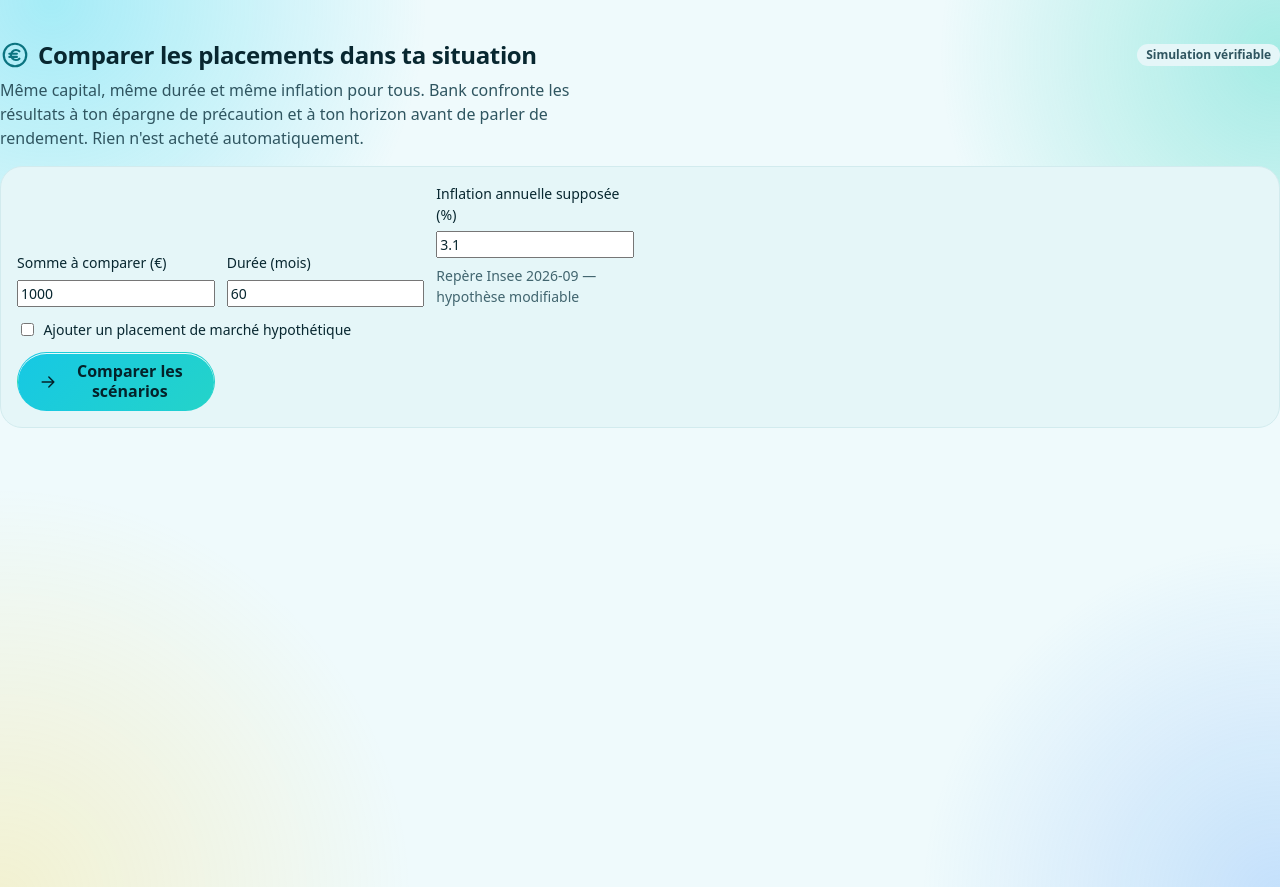
Test: comparateur de placements personnels › sends explicit scenarios and displays both gain and safety blockers, without a second inventory
Click the checkbox labelled "Ajouter un placement de marché hypothétique" at (28, 329), box [21,323,34,336]
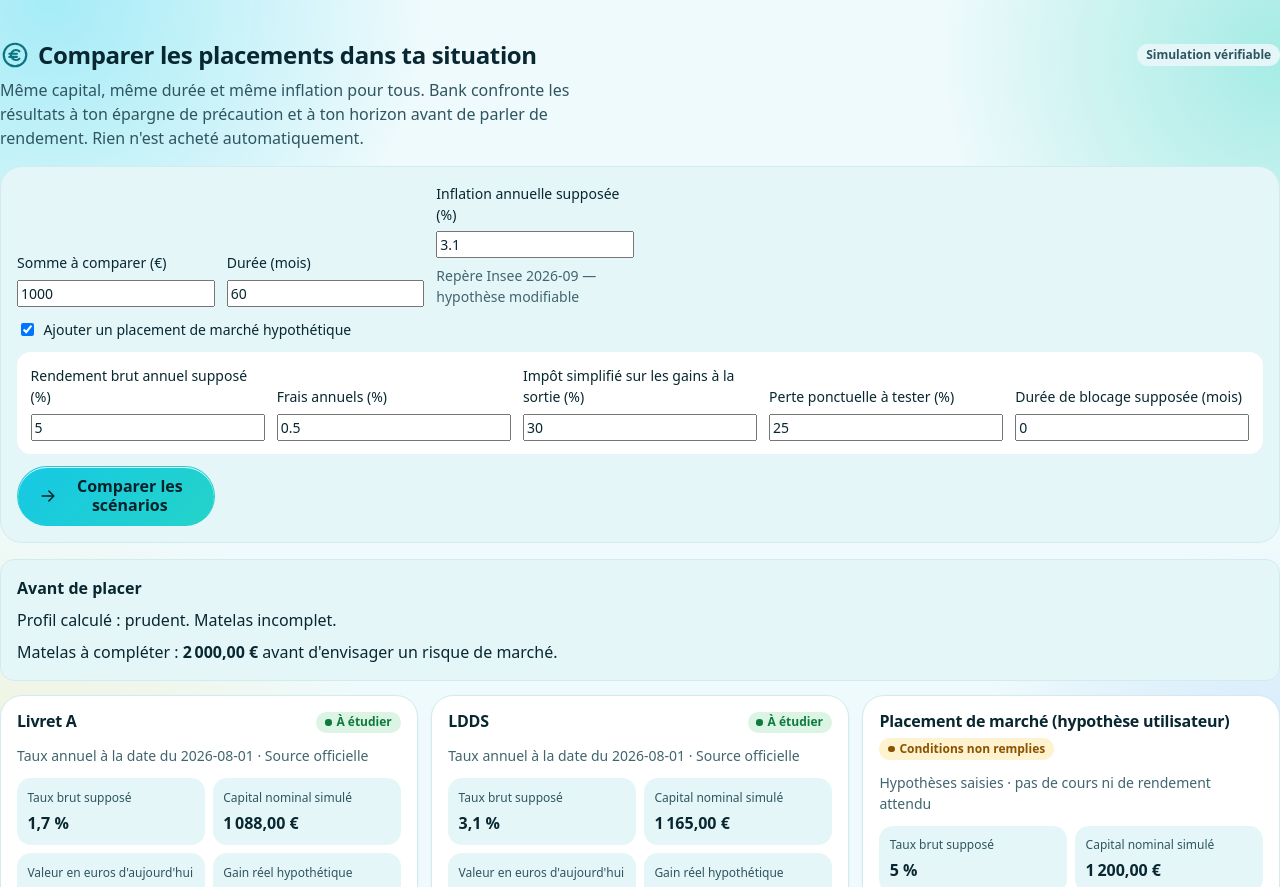
Expected: the text "Matelas à compléter" is shown, [17,641,183,663]
Expected: the text "Taux annuel à la date du 2026-08-01" is shown, [17,746,368,765]
Expected: the text "Conditions non remplies" is shown, [879,738,1054,760]
